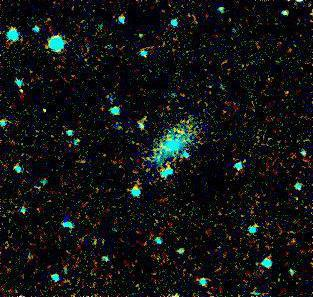star: (31, 94, 61, 124)
